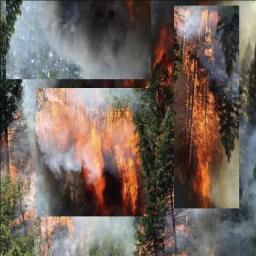Heavy smoke: (8, 0, 152, 78)
Large fire: (38, 87, 162, 215), (175, 6, 222, 207)
